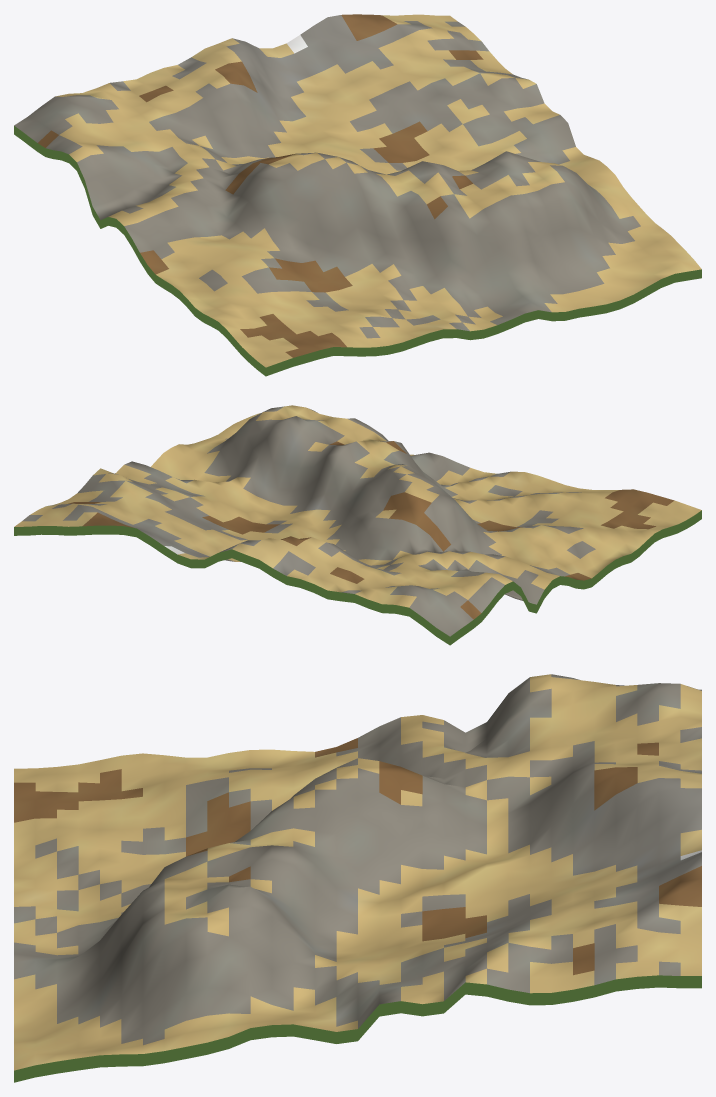
Rendered from chunk_6_4_lod1.glb.
3 renders of one model, top to bottom at view 1: azimuth 30°, elevation 25°; view 2: azimuth 150°, elevation 25°; view 3: azimuth 270°, elevation 25°, orthographic. The views are drawn at different scales.
Parts seen in each view (by area): view 1: Surface_Gravel, Surface_Sand, Surface_Dirt, Skirt; view 2: Surface_Sand, Surface_Gravel, Skirt, Surface_Dirt; view 3: Surface_Gravel, Surface_Sand, Surface_Dirt, Skirt.
Boxes of the visible parts, x1,y1,x2,y2 form: Surface_Gravel: (14,15,640,338); Surface_Sand: (55,14,701,367); Surface_Dirt: (38,14,483,357); Skirt: (14,126,701,376); Surface_Sand: (14,405,701,607); Surface_Gravel: (22,406,595,636); Skirt: (14,510,701,645); Surface_Dirt: (68,441,674,619); Surface_Gravel: (14,674,701,1045); Surface_Sand: (14,674,701,1070); Surface_Dirt: (14,738,701,975); Skirt: (14,975,701,1082).
Size of the model in its own units: 256 by 68.26 by 256.
